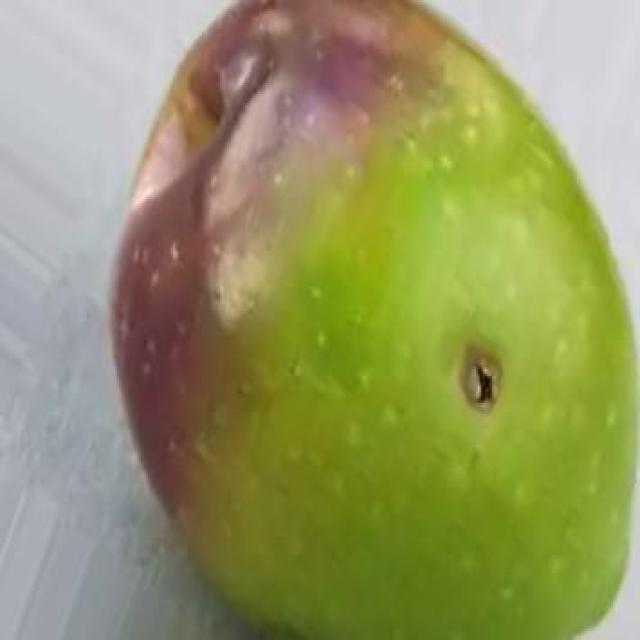Olive Fruit Fly: (114, 0, 633, 638)
